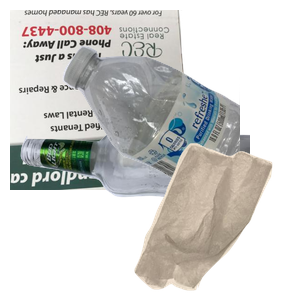glass: (18, 124, 258, 300)
paper: (10, 10, 201, 190)
plastic: (60, 44, 300, 224)
trash: (132, 140, 300, 300)
